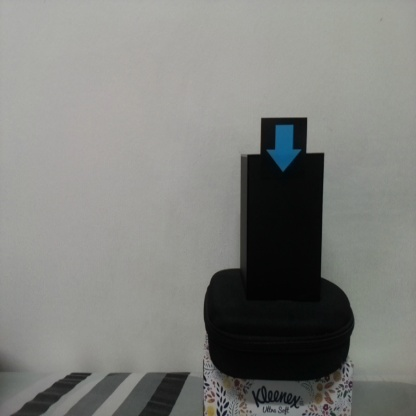id_2: (261, 118, 307, 179)
